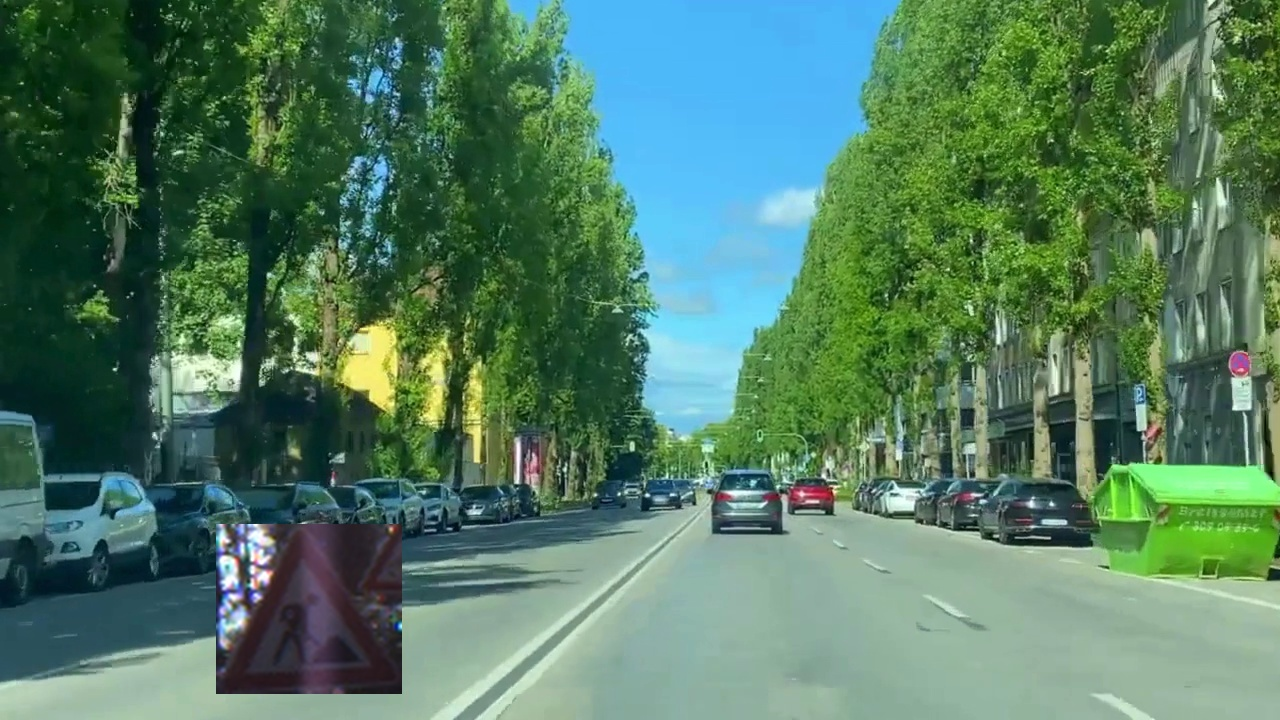Road work: (216, 524, 402, 694)
